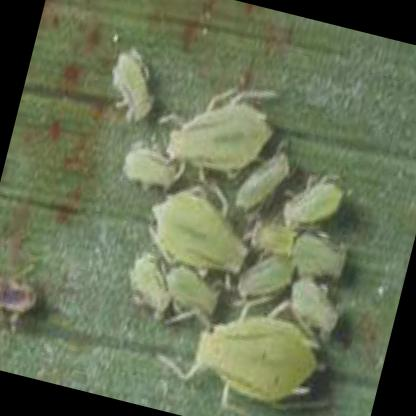schizaphis graminum: (196, 315, 317, 406), (165, 102, 270, 173), (152, 195, 245, 274), (234, 154, 290, 211), (113, 49, 154, 122), (290, 279, 341, 335), (284, 181, 341, 229), (295, 232, 347, 282), (167, 268, 217, 315)
